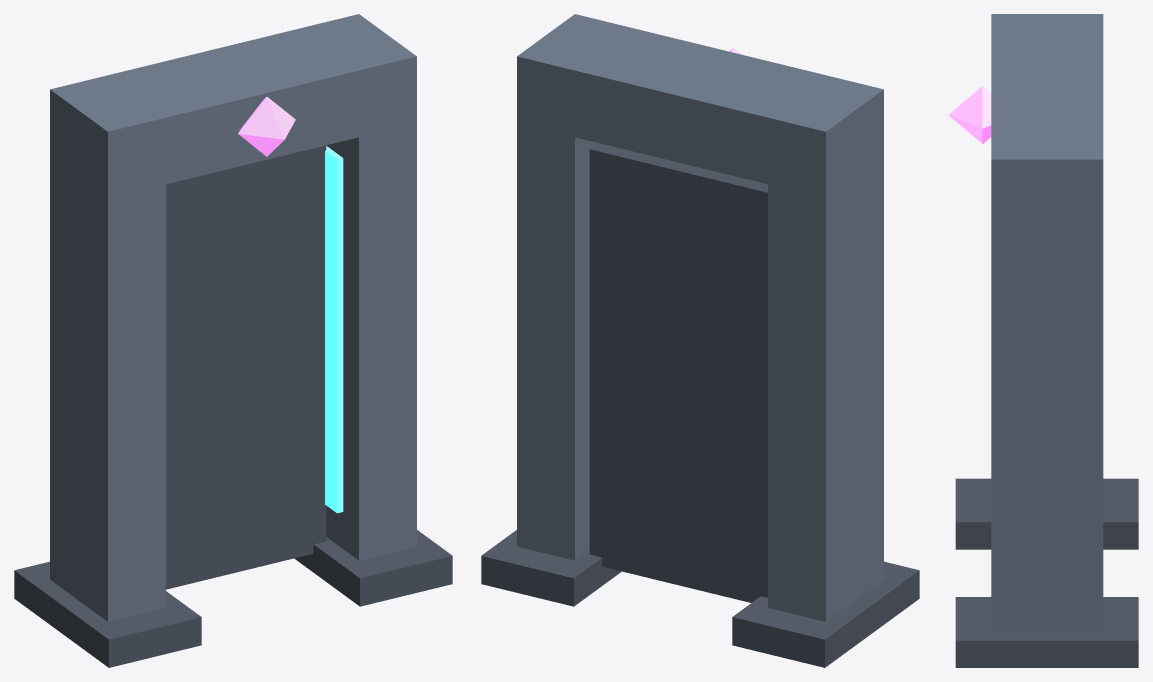
Rendered from AXM-DOORWAY-001_LOD1.glb.
3 renders of one model, left to right at view 1: azimuth 30°, elevation 25°; view 2: azimuth 150°, elevation 25°; view 3: azimuth 270°, elevation 25°, orthographic. The views are drawn at different scales.
Visible parts, largest first — view 1: door, column__l00, top_beam, column__l01, foot__l00, energy_strip__l01, foot__l01, header_core; view 2: door, column__l00, top_beam, column__l01, foot__l00, foot__l01; view 3: column__l01, top_beam, foot__l01, foot__l00, header_core.
Boxes of the visible parts, x1,y1,x2,y2 form: door: (166,145,326,589); column__l00: (50,123,165,621); top_beam: (50,14,416,197); column__l01: (326,90,416,560); foot__l00: (14,561,201,667); energy_strip__l01: (325,146,343,513); foot__l01: (294,530,452,606); header_core: (238,97,295,156); door: (589,143,767,602); column__l00: (768,123,883,621); top_beam: (517,14,883,198); column__l01: (517,90,597,560); foot__l00: (732,561,919,667); foot__l01: (481,530,621,606); column__l01: (991,191,1103,632); top_beam: (991,14,1103,223); foot__l01: (955,597,1138,667); foot__l00: (955,478,1138,549); header_core: (948,86,991,143).
Bounding box in the file's own units: 1.78 × 2.57 × 0.885.
